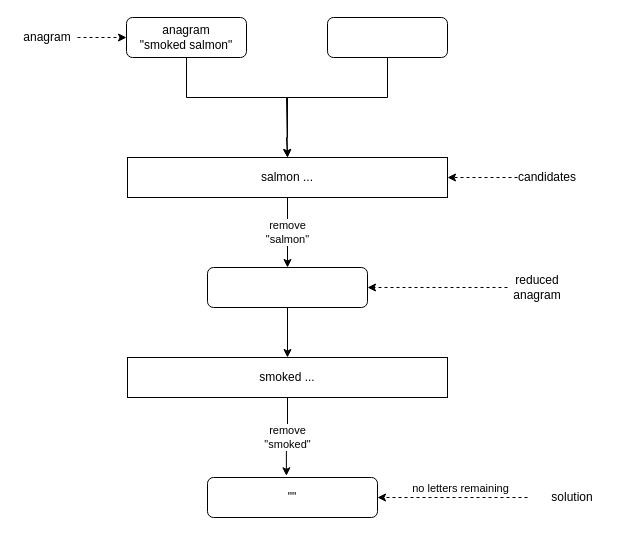
Some shapes in this 634 by 535 pixel diagram are drawn without their labels. Each missing label, with the box of its shape:
"smoked": (206, 266, 368, 308)
word list: (326, 16, 448, 58)
